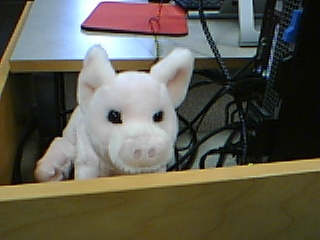piggy: (32, 41, 197, 184)
